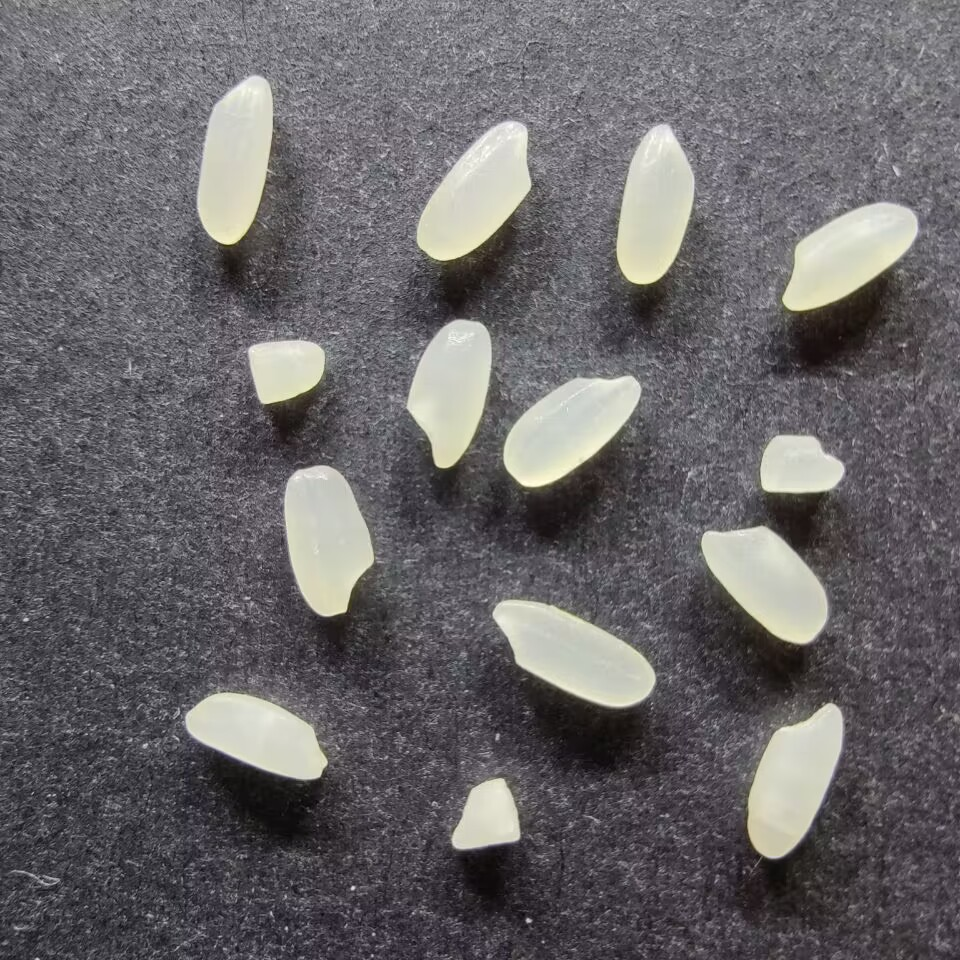broken: (757, 431, 847, 497), (445, 776, 523, 852), (246, 337, 327, 405)
rice: (491, 597, 659, 710), (413, 119, 534, 262), (500, 373, 642, 488), (744, 700, 846, 860), (699, 523, 830, 646), (779, 200, 919, 312), (281, 464, 377, 618), (194, 72, 276, 246), (182, 689, 330, 782), (613, 122, 697, 285), (403, 316, 492, 469)
